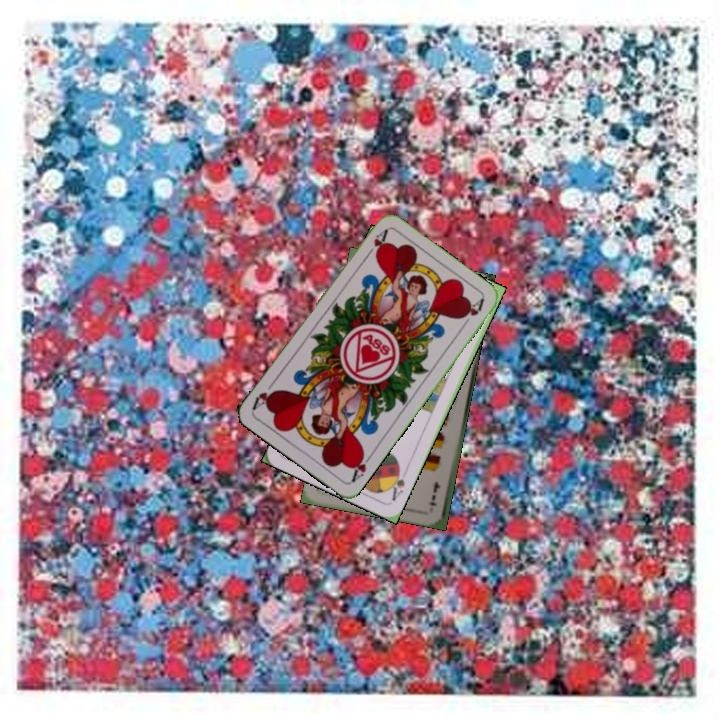E7: (426, 478, 443, 508)
HA: (347, 447, 375, 485), (361, 226, 390, 261)
SA: (385, 463, 407, 504)
